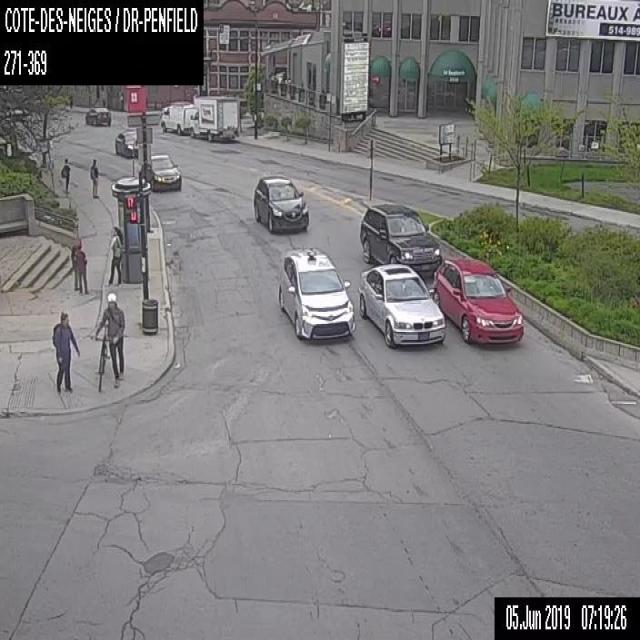pedestrian: (93, 290, 125, 386), (51, 311, 80, 393), (107, 224, 123, 287), (74, 245, 87, 292), (71, 242, 79, 289), (89, 157, 98, 196), (60, 157, 70, 192)
vehicle: (431, 257, 524, 349), (355, 262, 445, 348), (276, 249, 356, 343), (358, 201, 441, 275), (252, 175, 309, 233), (189, 94, 240, 140), (139, 152, 183, 191), (160, 100, 194, 134), (114, 127, 137, 157), (85, 106, 110, 126)
